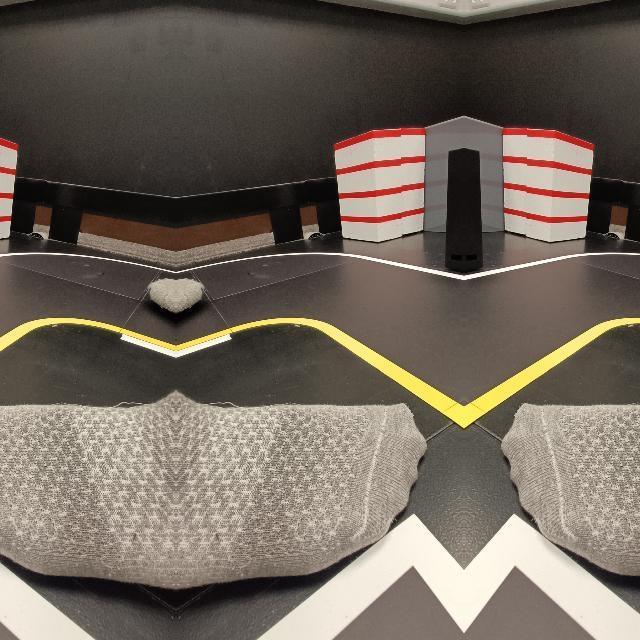obstacle: (178, 381, 420, 597), (0, 381, 172, 597), (507, 381, 640, 597)
